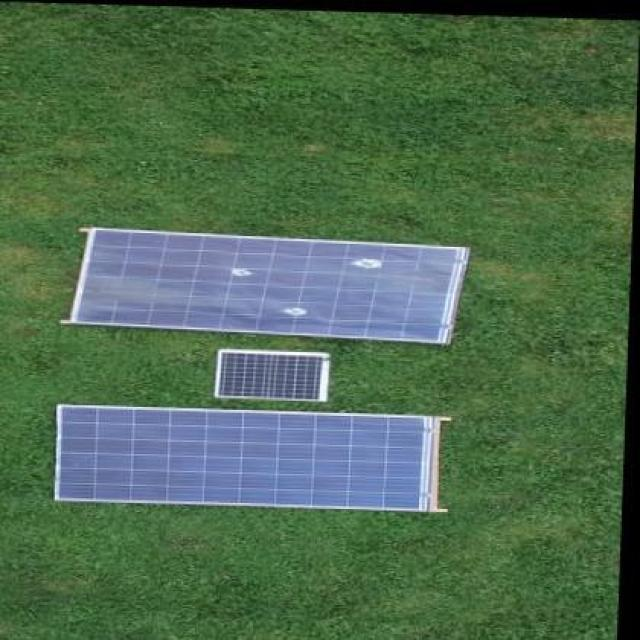soiled: (72, 224, 476, 346)
